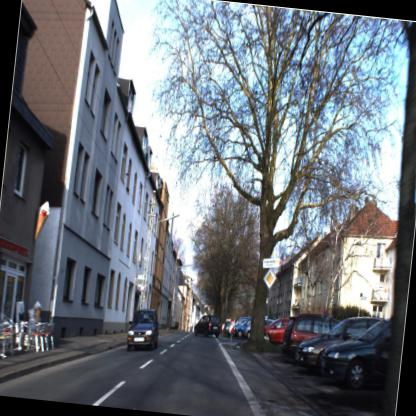other: (258, 262, 280, 292)
